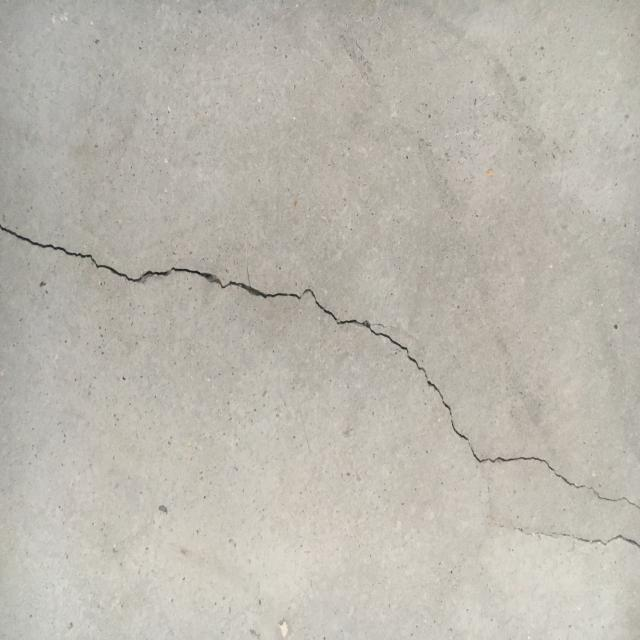Rachadura: (0, 221, 640, 510), (513, 526, 640, 551)
